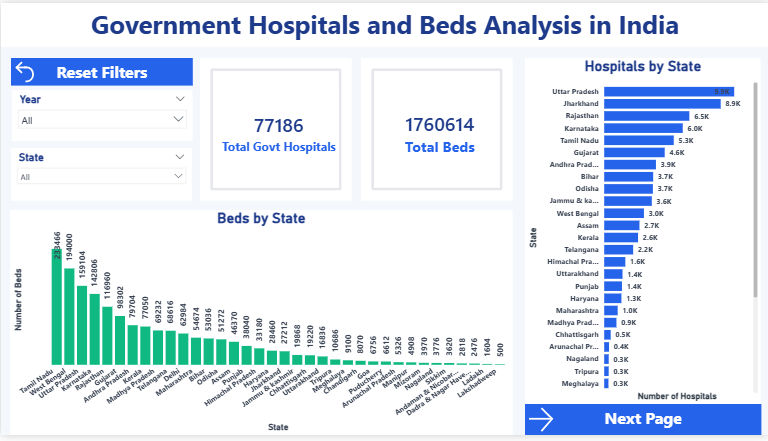

What the dashboard file says about the page in this screenshot:
{"tool":"powerbi","page":{"name":"Healthcare Infrastructure Overview","canvas":[1280,720],"ordinal":0},"visuals":[{"type":"cardVisual","fields":{"Data":["Project Hospitals and beds.Total Hospitals"]},"box":[331.7,91.7,253.3,238.3],"z":0},{"type":"textbox","box":[0,0,1280,73.3],"z":1000},{"type":"cardVisual","fields":{"Data":["Project Hospitals and beds.Total Beds"]},"box":[600,91.7,253.3,238.3],"z":2000},{"type":"clusteredBarChart","title":"Hospitals by State","fields":{"Category":["Project Hospitals and beds.State"],"Y":["Sum(Project Hospitals and beds.Number Of Government Hospitals)"]},"box":[873.3,91.7,393.3,576.7],"z":3000},{"type":"clusteredColumnChart","title":"Beds by State","fields":{"Category":["Project Hospitals and beds.State"],"Y":["Sum(Project Hospitals and beds.Number Of Beds)"]},"box":[15,345,838.3,375],"z":4000},{"type":"slicer","fields":{"Values":["Project Hospitals and beds.Year"]},"box":[18,145,301,85],"z":5000},{"type":"slicer","fields":{"Values":["Project Hospitals and beds.State"]},"box":[16.7,241.7,301.7,88.3],"z":6000},{"type":"actionButton","box":[16,92,303,46],"z":7000},{"type":"actionButton","box":[874,668,394,52],"z":8000}]}

Visuals, with their boxes in screenshot pixels (x1, y1, x2, y2), scaled from the page's 1280x720 canvas onto the 768x441 screenshot:
cardVisual - Project Hospitals and beds.Total Hospitals: l=199, t=56, r=351, b=202
textbox: l=0, t=0, r=767, b=45
cardVisual - Project Hospitals and beds.Total Beds: l=360, t=56, r=512, b=202
"Hospitals by State" clusteredBarChart: l=524, t=56, r=760, b=409
"Beds by State" clusteredColumnChart: l=9, t=211, r=512, b=440
slicer - Project Hospitals and beds.Year: l=11, t=89, r=191, b=141
slicer - Project Hospitals and beds.State: l=10, t=148, r=191, b=202
actionButton: l=10, t=56, r=191, b=85
actionButton: l=524, t=409, r=761, b=440
